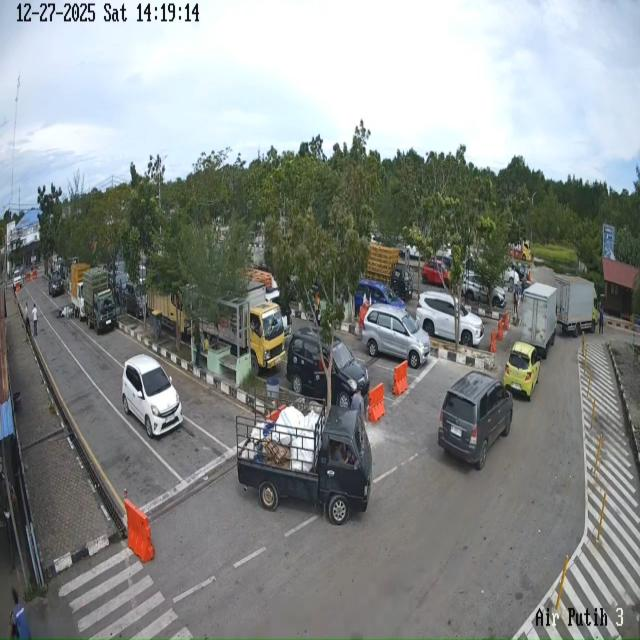Golongan IVA: (438, 371, 513, 470), (286, 326, 370, 408), (122, 354, 183, 438), (361, 304, 430, 368), (416, 291, 484, 347), (503, 341, 541, 401), (354, 278, 406, 313), (462, 271, 507, 308), (48, 271, 64, 297)
Golongan IVB: (236, 391, 372, 525), (82, 267, 116, 334), (69, 263, 90, 321)
Golongan VB: (202, 281, 286, 374), (521, 283, 557, 359), (555, 275, 598, 337)
